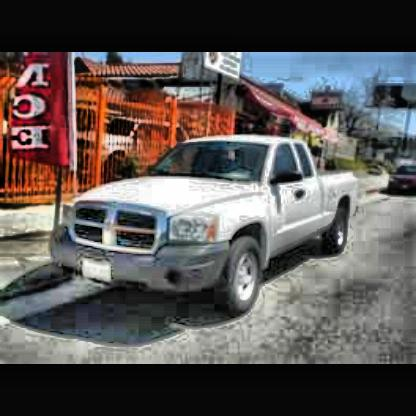Dodge Dakota Club Cab 2007: (53, 138, 360, 319)
